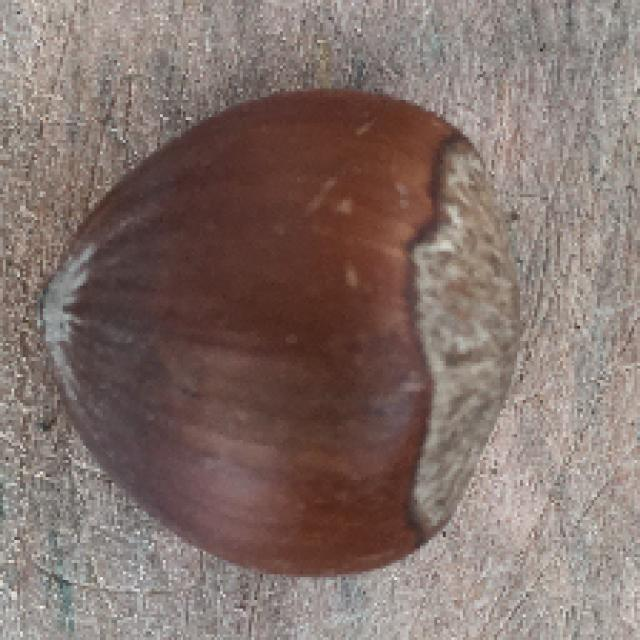qualityHazelnut: (35, 86, 519, 584)
